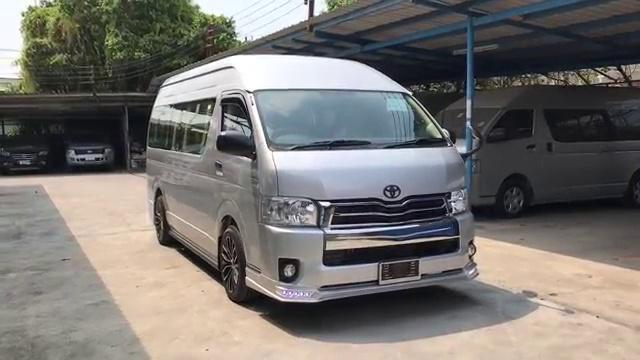Van: (147, 55, 480, 311)
